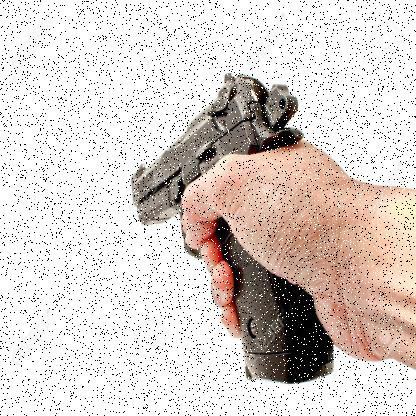pistol: (130, 42, 340, 387)
